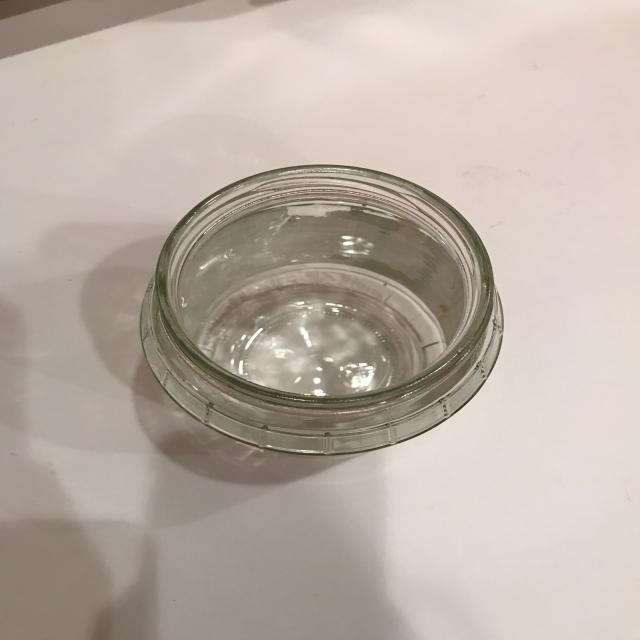glass: (140, 162, 508, 460)
